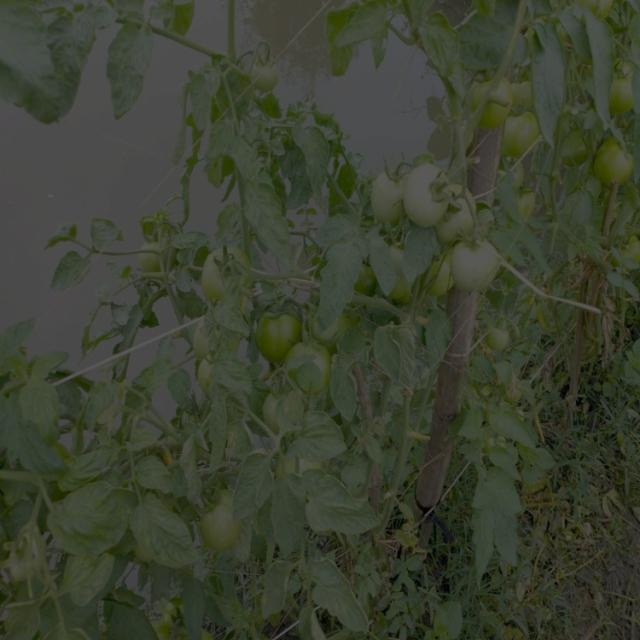tomato: (397, 155, 454, 232), (448, 234, 499, 293), (259, 304, 305, 367), (203, 241, 251, 299), (201, 499, 247, 559), (368, 170, 409, 232), (442, 179, 484, 239), (594, 135, 639, 190), (501, 114, 541, 162), (195, 319, 219, 385), (477, 77, 514, 119), (605, 77, 640, 121), (254, 391, 286, 437), (255, 53, 289, 92), (307, 338, 340, 376), (484, 318, 520, 346), (143, 236, 169, 273)
